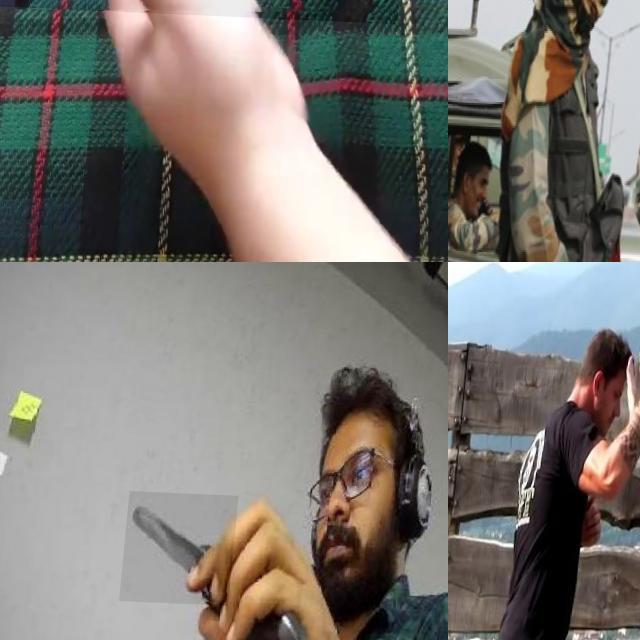-: (128, 489, 245, 603)
gun-knife-thesis - v11 Yolov5 augmented: (0, 0, 431, 183), (448, 0, 544, 55)
